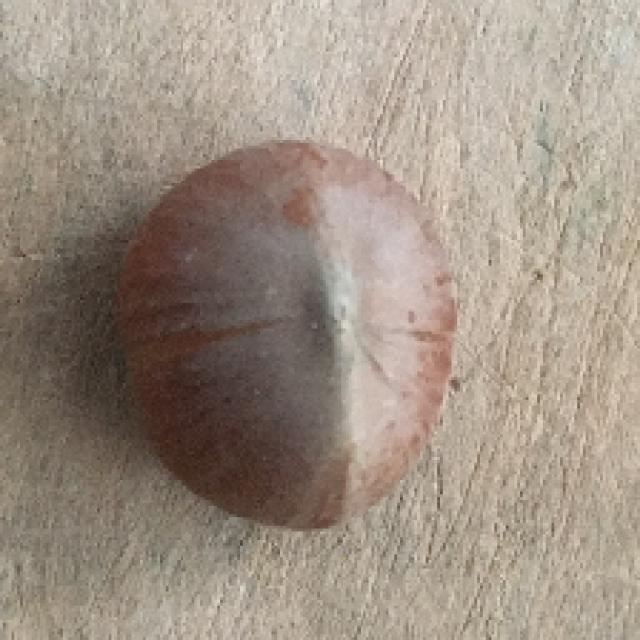qualityHazelnut: (103, 132, 460, 531)
